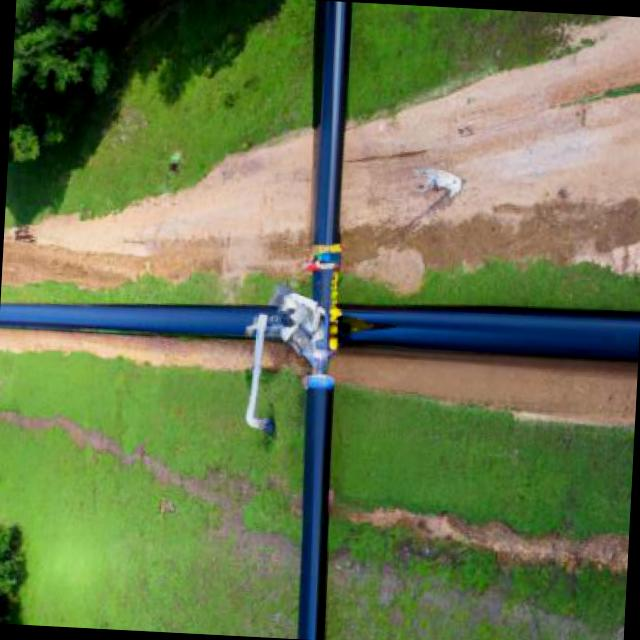gas: (0, 273, 640, 369), (279, 0, 358, 640)
